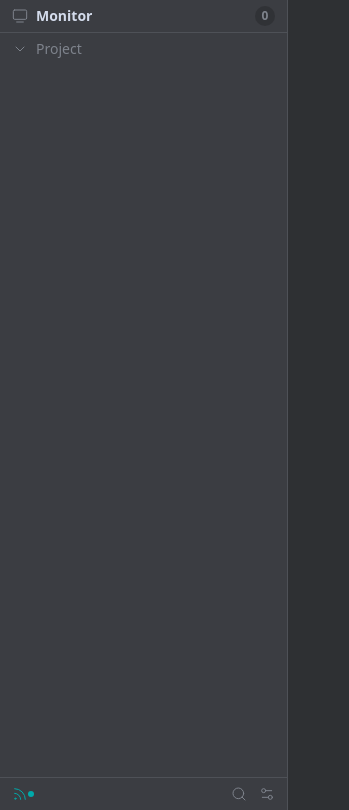
Test: Sidebar project actions › shows new detected ports as a network dot until the port list is opened
The width and height of the screenshot is (349, 810).
Click the button named "Network ports, new ports" at {"x": 20, "y": 794}, box [12,786,28,802]
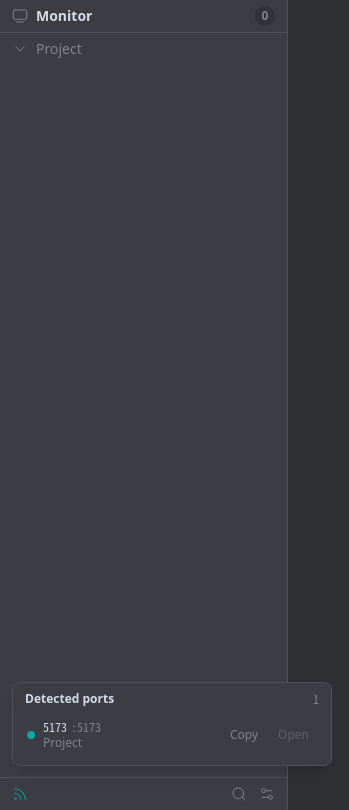
Now the text "Detected ports" is shown, box [25,691,114,707]
Now the 4th text "5173" is shown, box [43,718,67,735]
